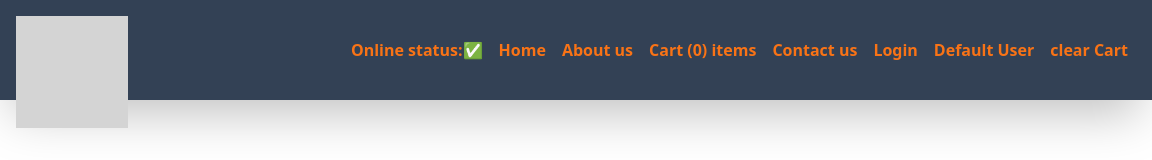
it: Should check the functionality of the login button
Click the button "Login" at {"x": 896, "y": 50}, box [865,38,926,62]
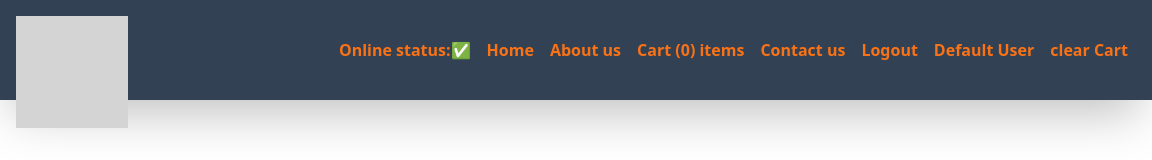
Result: the button "Logout" is shown at [853,38,926,62]
